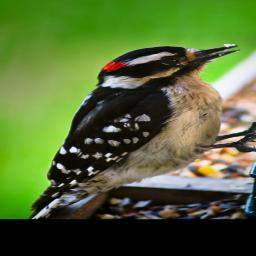Woodpecker: (28, 44, 256, 219)
